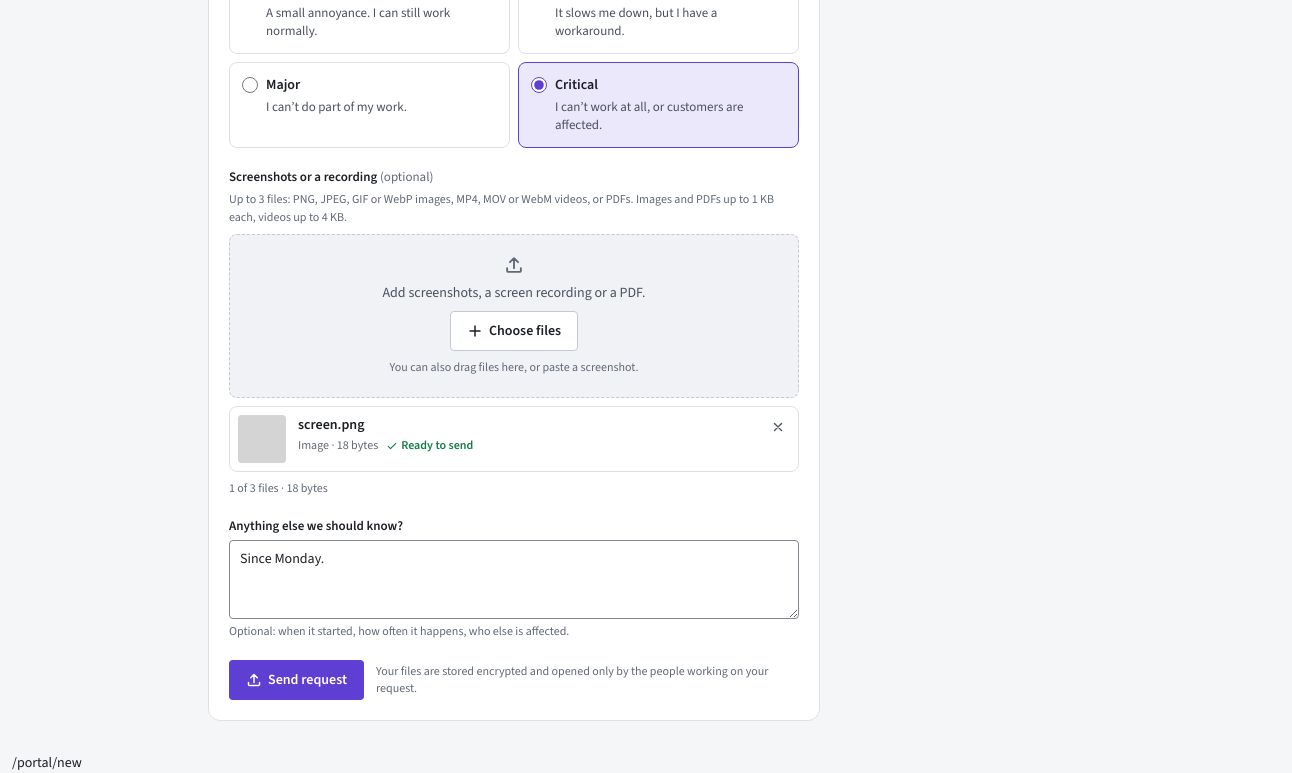
new request › uploads with progress, then opens the new request
The width and height of the screenshot is (1292, 773).
Earlier steps of the test are not shown.
Later steps or results of the test are not shown.
(page scrolled)
Expected: the text "Ready to send" is shown, x1=386 y1=437 x2=473 y2=454
Click the button "Send request": (296, 680) x1=229 y1=660 x2=364 y2=700
(page scrolled)
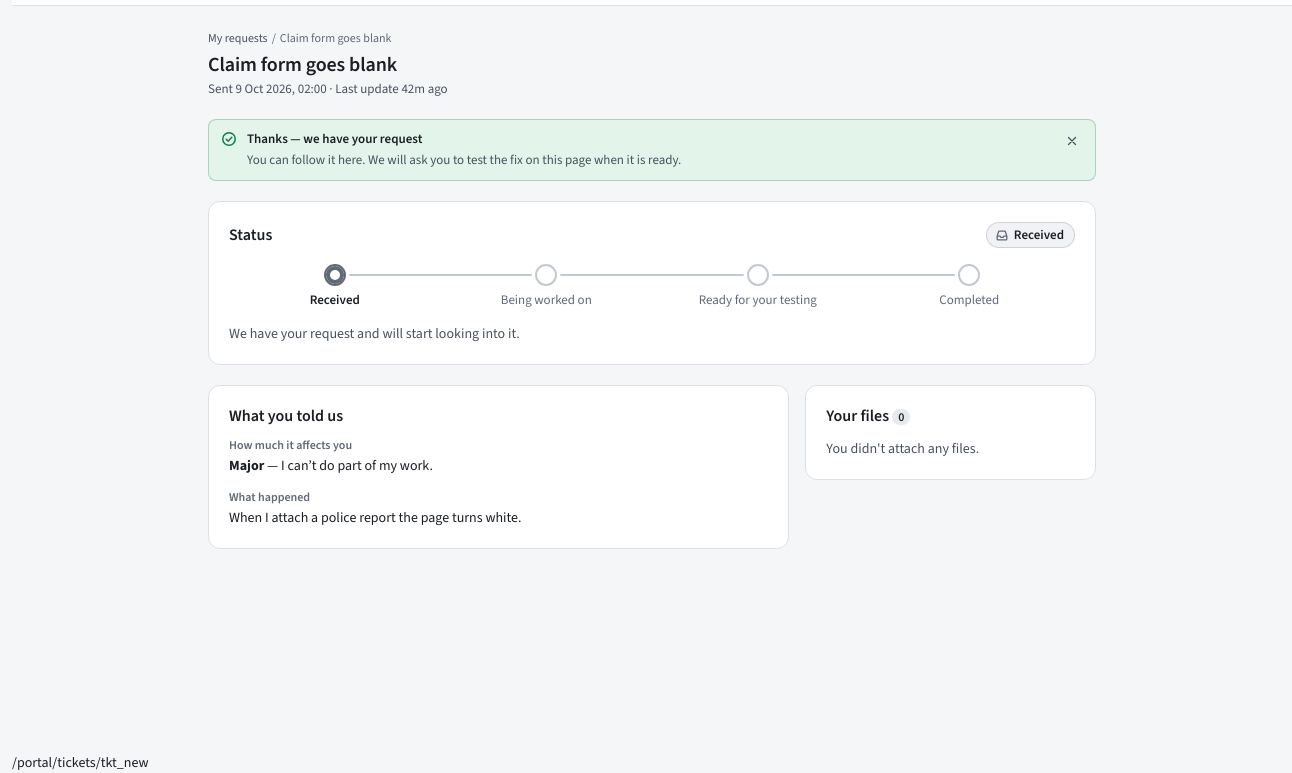
Now the text "Thanks — we have your request" is shown, box x1=247 y1=130 x2=422 y2=147
Now the text with test id "location" reads "/portal/tickets/tkt_new", box x1=12 y1=753 x2=149 y2=772
